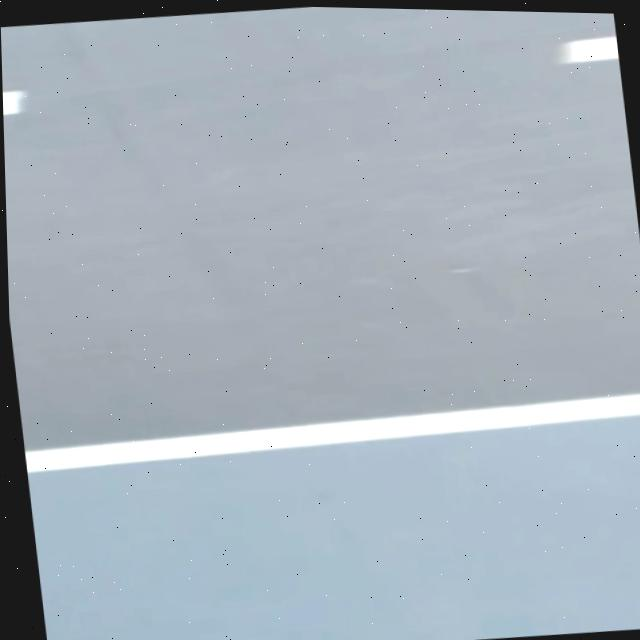center: (558, 37, 619, 64), (3, 91, 24, 115)
left: (24, 394, 640, 473)
